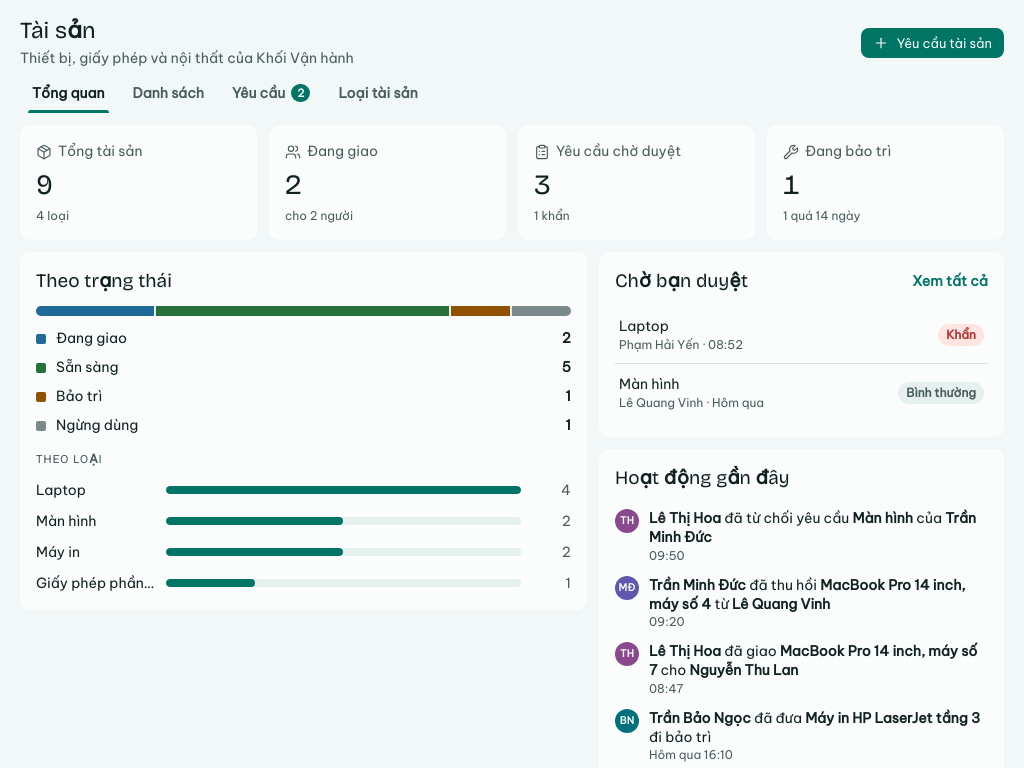
Scenario: AssetsScreen: tabs › moves between the four tabs through the URL
Check: the link "Tổng tài sản 9 4 loại" is shown, box [20, 125, 257, 240]
Click the tab "Danh sách".
click(168, 93)  # box [120, 73, 216, 113]
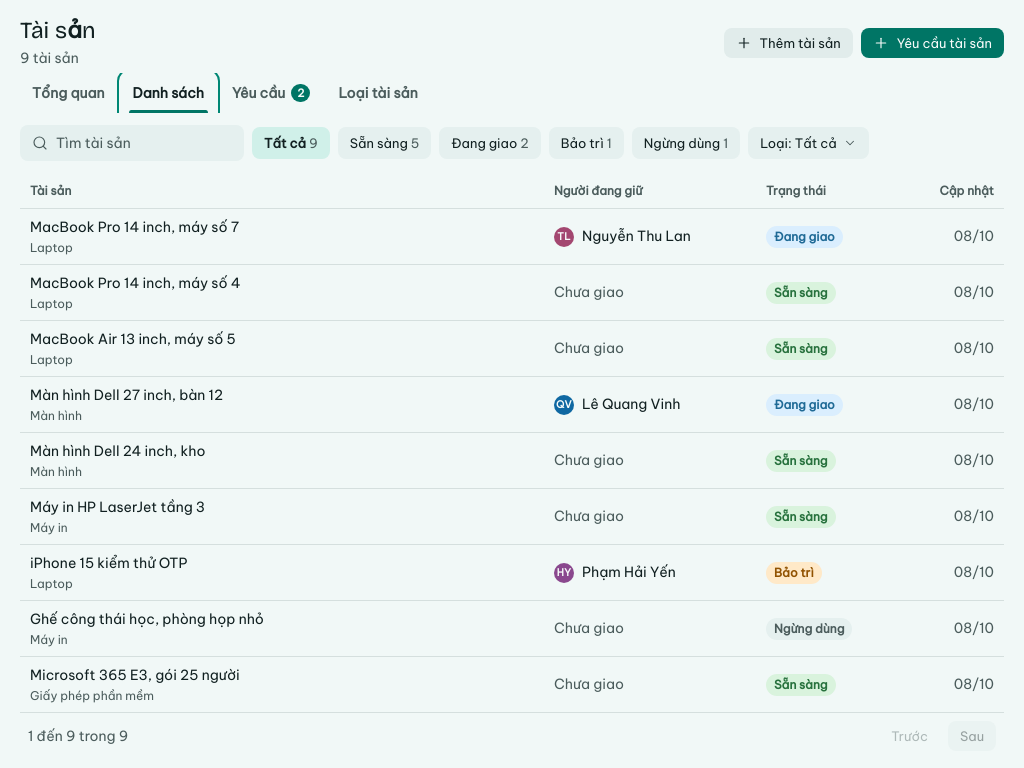
Check: the button "MacBook Pro 14 inch, máy số 7" is shown, box [30, 217, 239, 238]
Click the tab "Yêu cầu 2".
click(271, 93)  # box [220, 73, 322, 113]
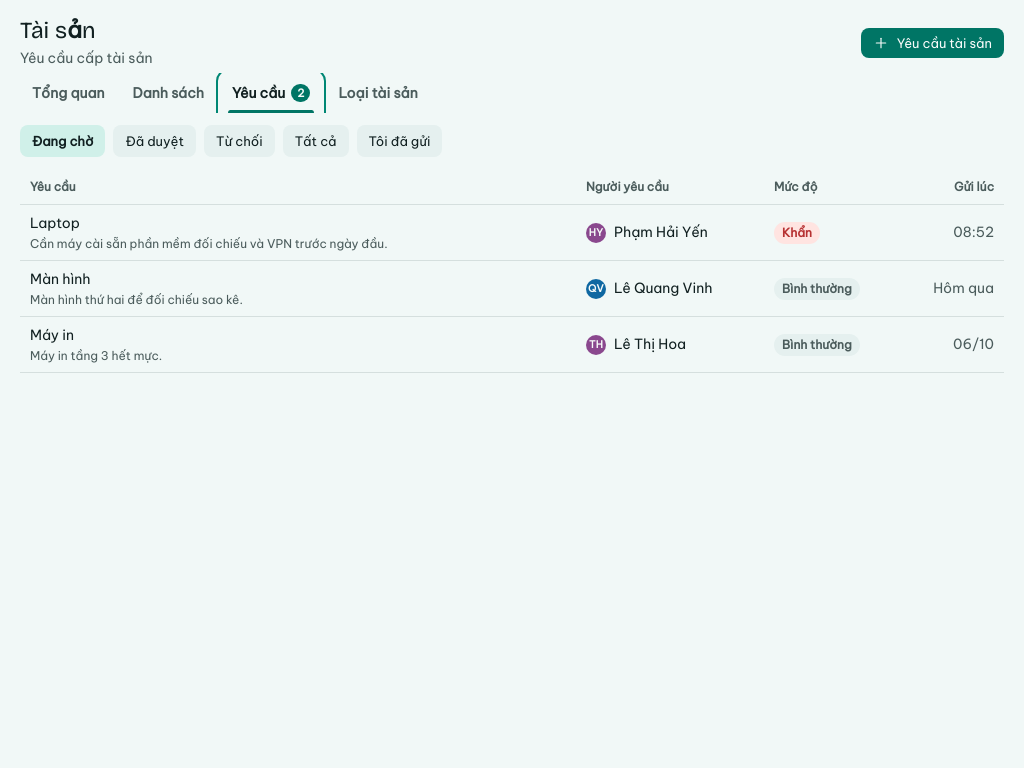
Click the tab "Loại tài sản".
click(378, 93)  # box [326, 73, 430, 113]
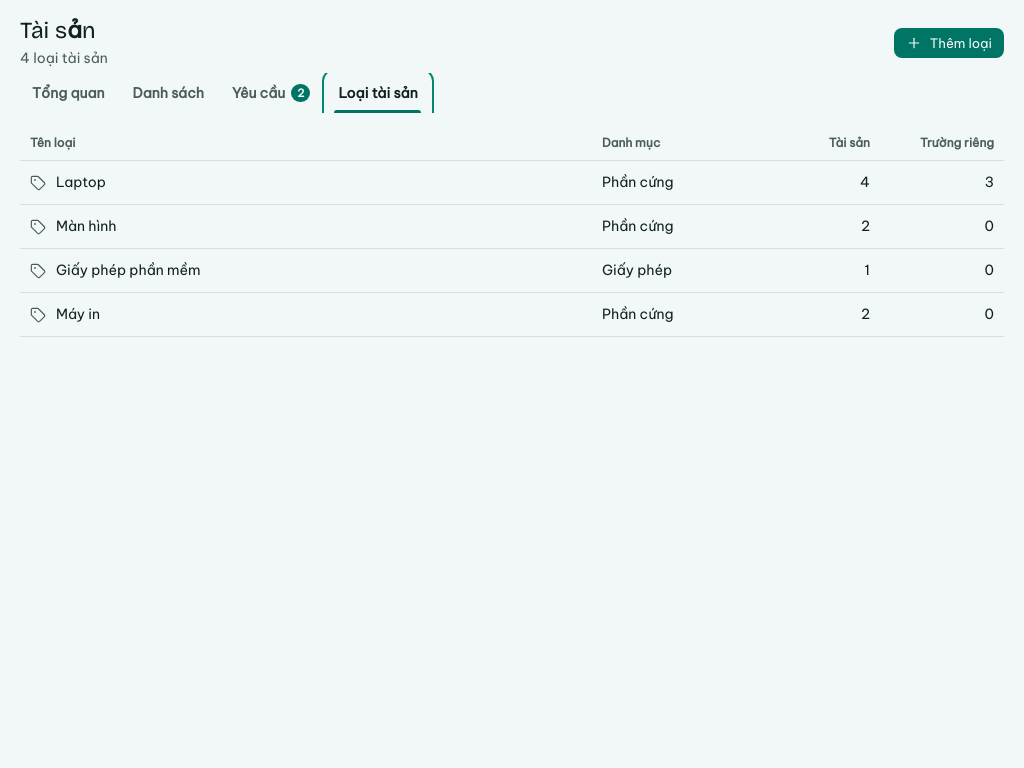
Check: the button "Laptop" is shown, box [56, 172, 106, 193]
Click the tab "Tổng quan".
click(68, 93)  # box [20, 73, 116, 113]
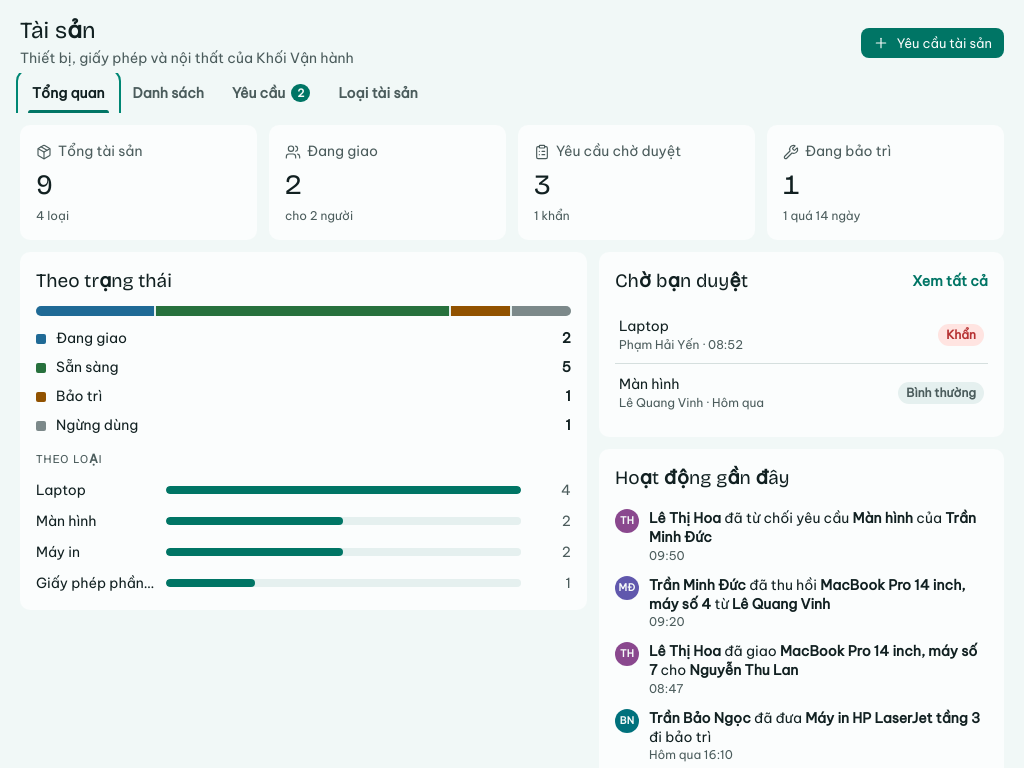
Check: the link "Tổng tài sản 9 4 loại" is shown, box [20, 125, 257, 240]
